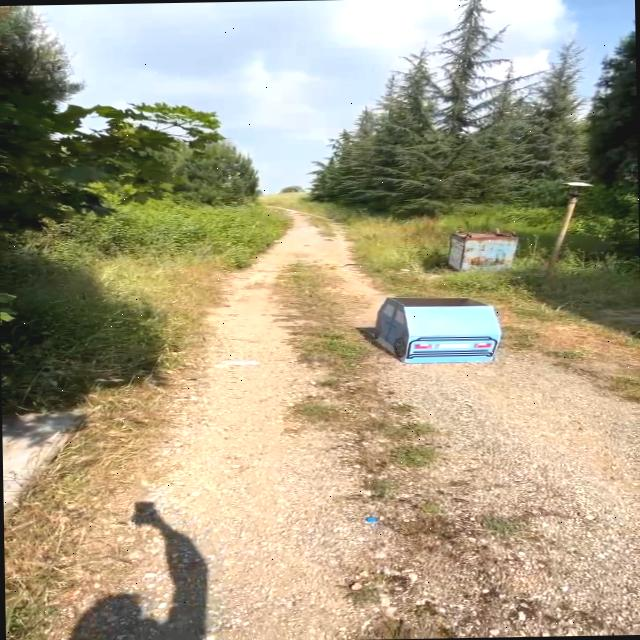blue_car: (351, 283, 524, 375)
